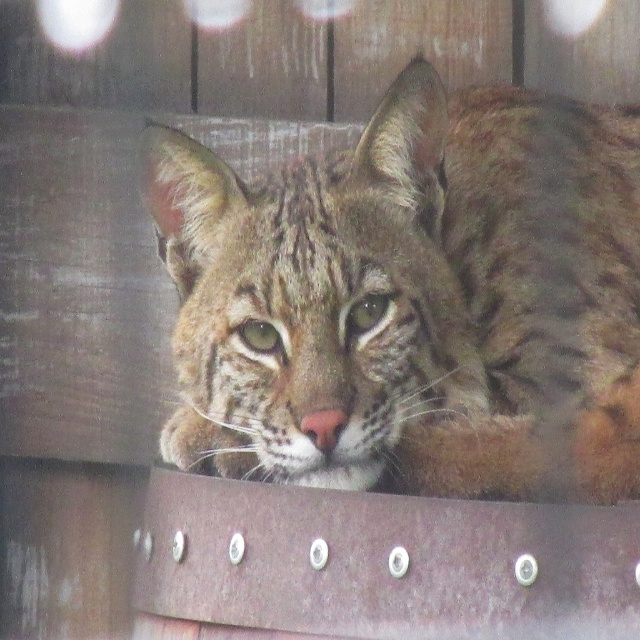Lynx: (136, 48, 640, 504)
